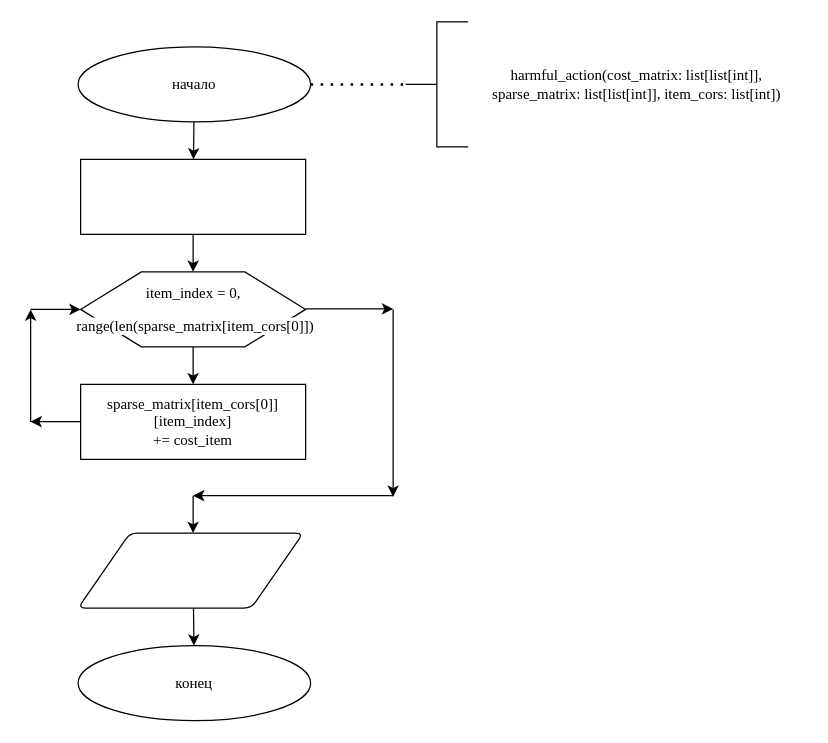
This 828x743 diagram has some shape labels left out. Each missing label, with the centre of its shape:
"cost_item = cost_matrix[item_cors[0]][item_cors[1]]" belongs at point (192, 196).
"return sparse_matrix" belongs at point (190, 570).
